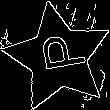P_W: (30, 35, 87, 80)
